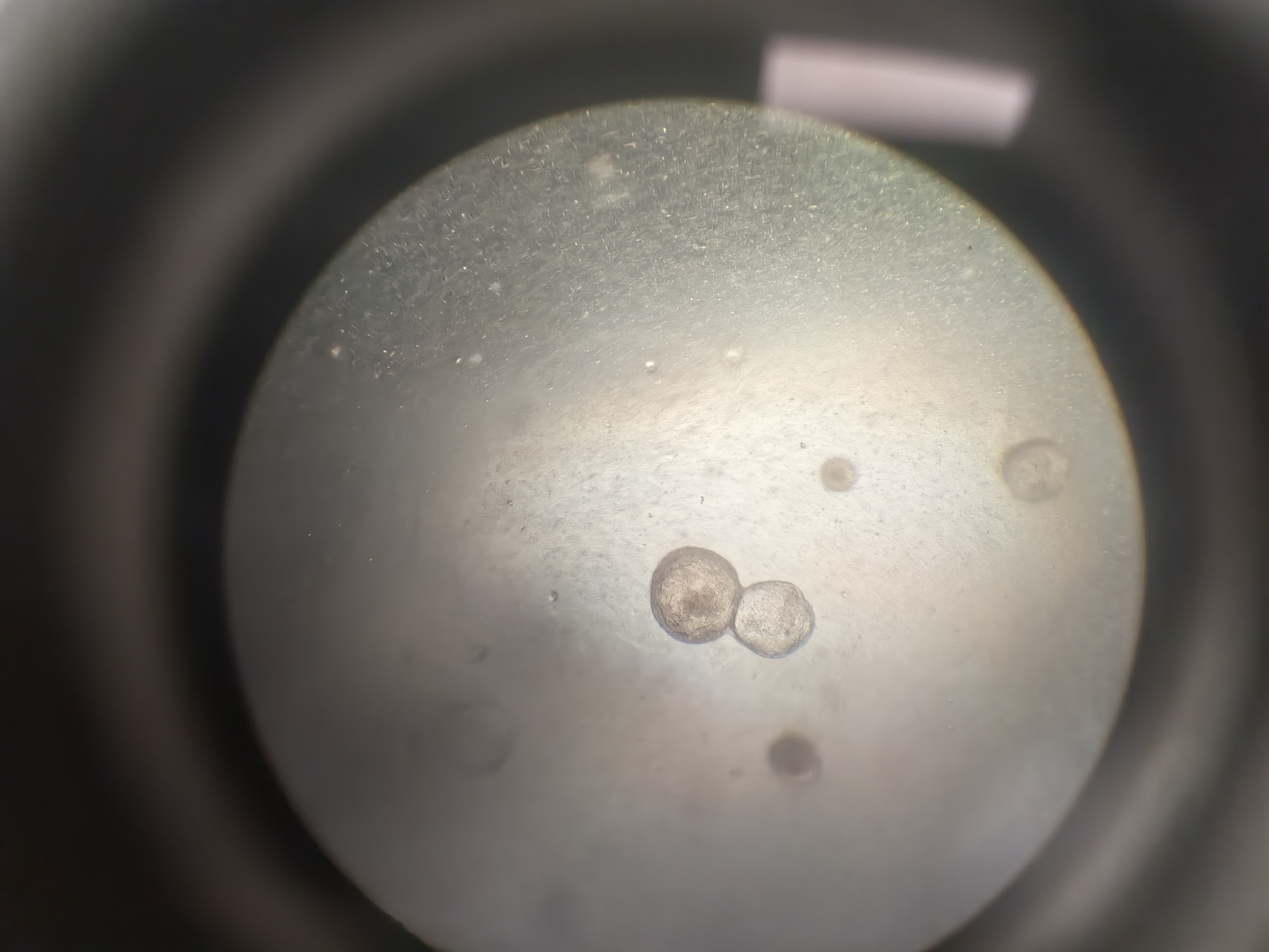organoid: (310, 597, 473, 714), (679, 541, 739, 604), (519, 523, 556, 559)
